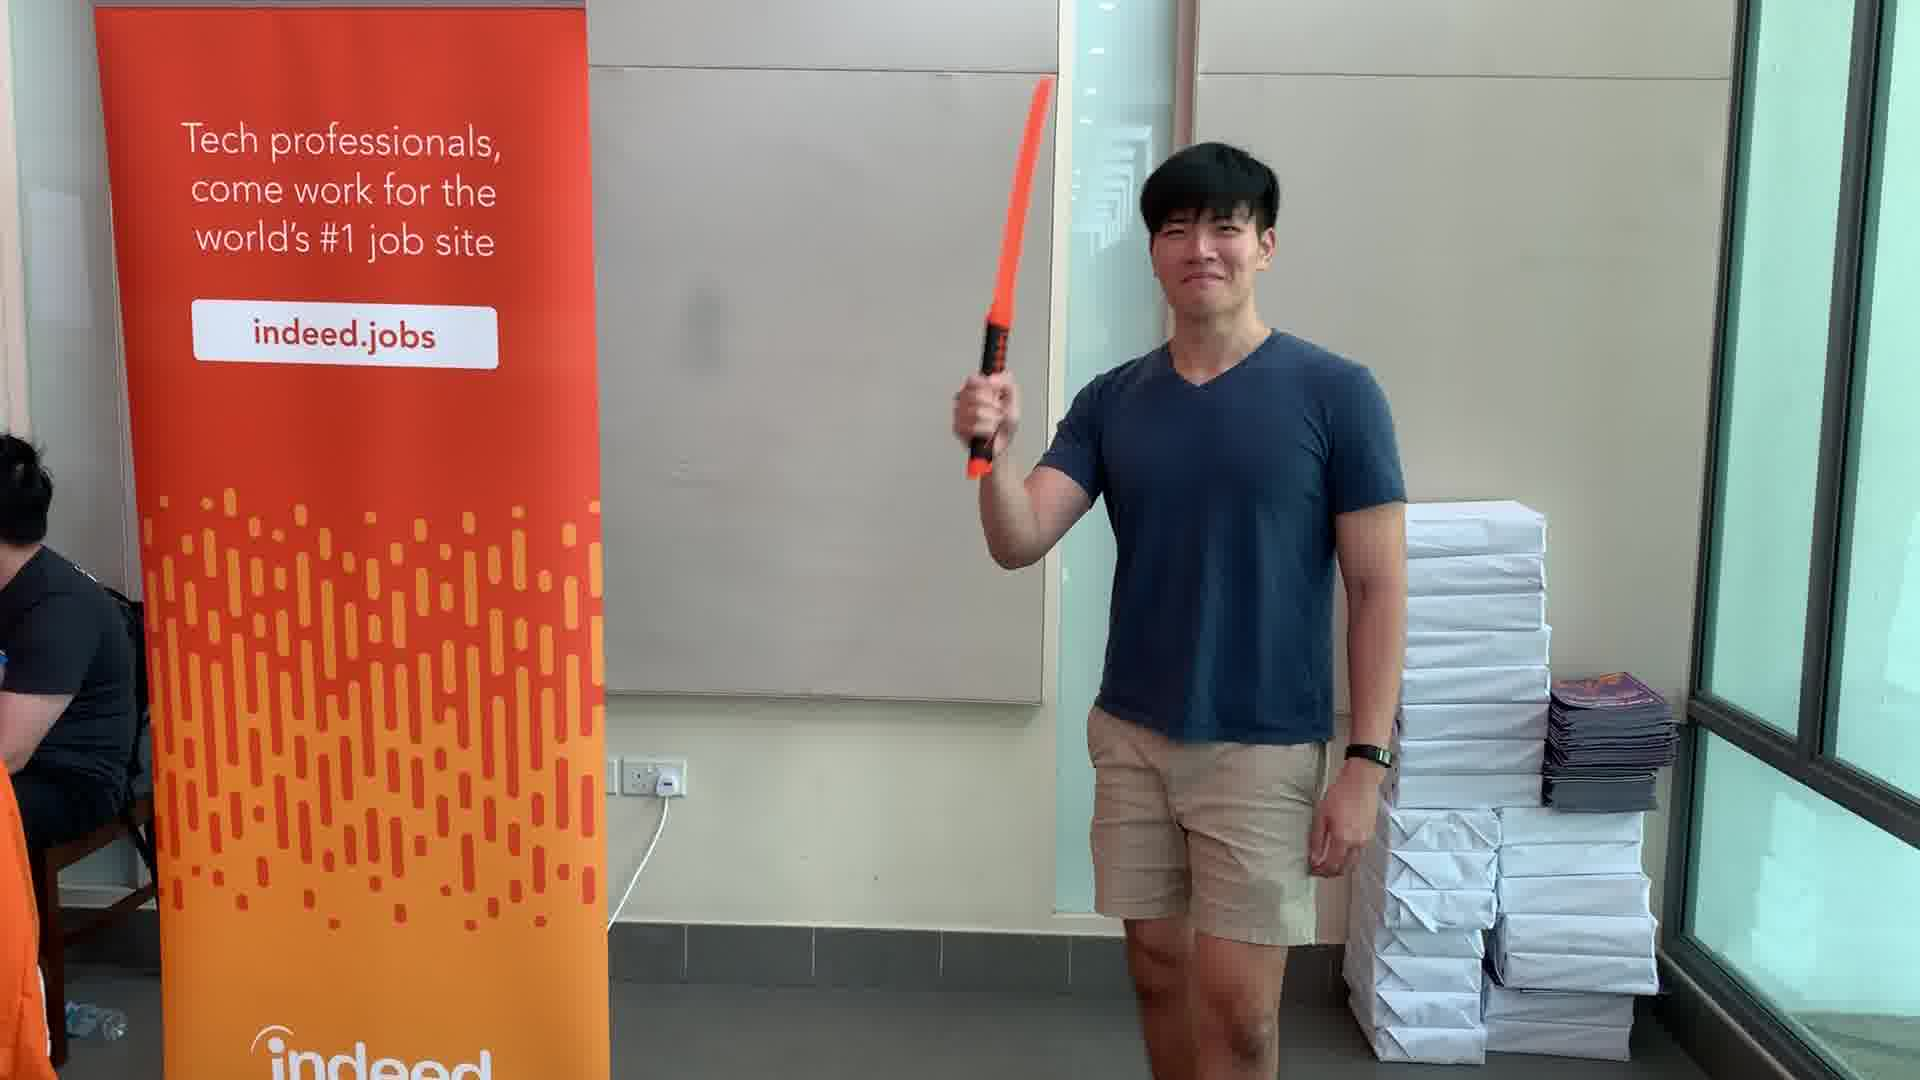knife: (948, 66, 1069, 489)
